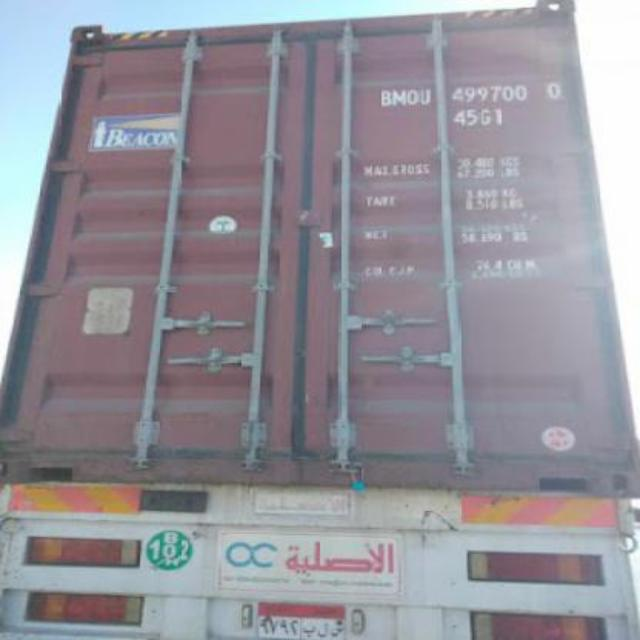0: (546, 81, 562, 101), (514, 81, 528, 101), (502, 84, 514, 100)
4: (450, 86, 466, 104)
7: (490, 86, 502, 100)
9: (478, 86, 490, 104), (466, 87, 476, 103)
B: (376, 87, 392, 107)
M: (392, 89, 406, 107)
O: (408, 89, 418, 105)
U: (418, 87, 432, 107)
